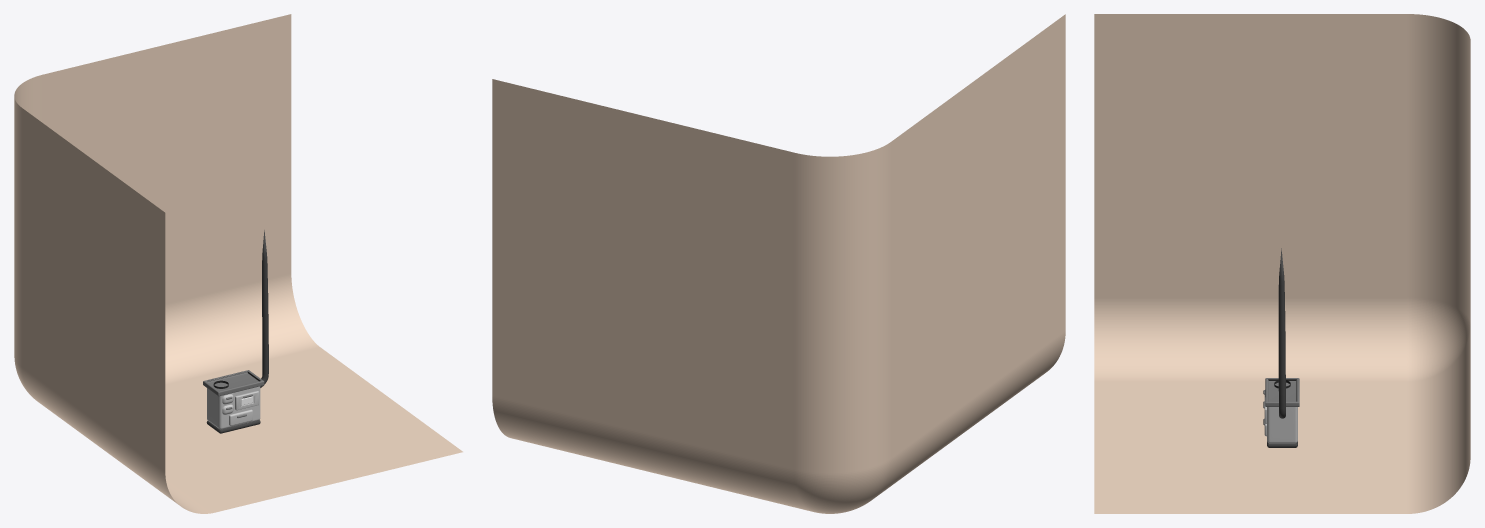
The model's file is smederevac.gltf.
The picture shows the model from 3 angles, left to right: view 1: azimuth 30°, elevation 25°; view 2: azimuth 150°, elevation 25°; view 3: azimuth 270°, elevation 25°; orthographic projection. The views are drawn at different scales.
Visible parts, largest first — view 1: Cube.005, Base, Cylinder.004, Base.002; view 2: Cube.005; view 3: Cube.005, Cylinder.004, Base, Base.002.
Boxes of the visible parts, box(x1,y1,x2,y2) form: Cube.005: box(14, 14, 462, 513); Base: box(207, 386, 260, 429); Cylinder.004: box(260, 230, 268, 387); Base.002: box(203, 370, 264, 396); Cube.005: box(492, 14, 1065, 513); Cube.005: box(1094, 14, 1470, 513); Cylinder.004: box(1278, 248, 1285, 418); Base: box(1267, 407, 1297, 443); Base.002: box(1265, 378, 1299, 406).
Size of the model in its own units: 19.16 by 19.18 by 19.16.
